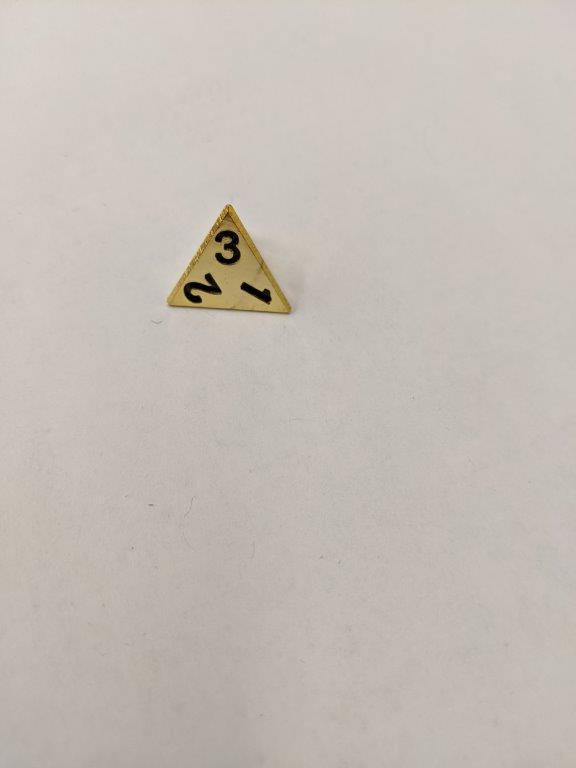d4-3: (156, 200, 300, 321)
